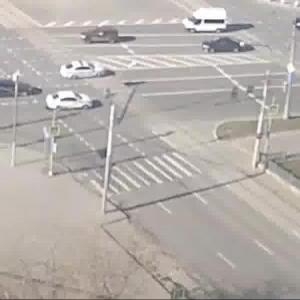car: (184, 8, 233, 35), (56, 58, 115, 80), (78, 27, 127, 47), (46, 93, 96, 112), (206, 37, 244, 54), (1, 83, 23, 98)
